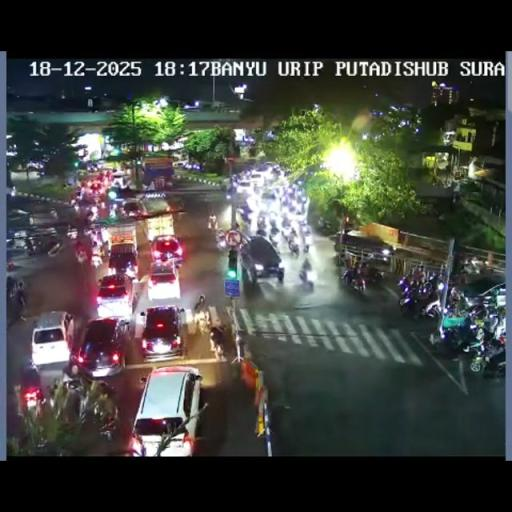Car: (128, 365, 202, 455), (72, 315, 130, 378), (138, 304, 186, 361), (234, 234, 284, 286), (30, 310, 74, 366), (95, 273, 135, 318), (146, 261, 182, 302), (18, 363, 45, 411), (107, 242, 140, 280), (150, 234, 184, 268), (24, 232, 63, 256), (119, 199, 144, 219), (234, 178, 256, 197), (110, 170, 129, 189), (250, 170, 270, 184), (26, 160, 43, 171), (171, 160, 188, 168)
Motorcycle: (398, 274, 442, 318), (435, 312, 480, 355), (59, 375, 85, 420), (478, 338, 506, 378), (6, 275, 27, 325), (97, 408, 119, 446), (89, 377, 116, 405), (466, 300, 489, 326), (209, 326, 226, 360), (490, 307, 506, 339), (446, 284, 464, 312), (194, 294, 208, 330), (234, 331, 250, 362), (298, 262, 314, 290), (236, 206, 254, 230), (350, 270, 366, 293), (74, 239, 88, 263), (116, 318, 130, 342), (316, 217, 334, 234), (458, 259, 475, 276), (47, 380, 59, 404), (287, 235, 300, 257), (90, 246, 103, 268), (256, 214, 270, 234), (412, 264, 425, 283), (225, 180, 236, 199), (334, 250, 346, 267), (268, 232, 279, 250), (89, 190, 103, 204), (216, 233, 226, 250), (358, 261, 369, 276), (207, 215, 217, 230), (66, 228, 78, 240), (69, 194, 80, 207), (88, 206, 98, 220), (276, 265, 284, 282), (302, 238, 310, 254)
